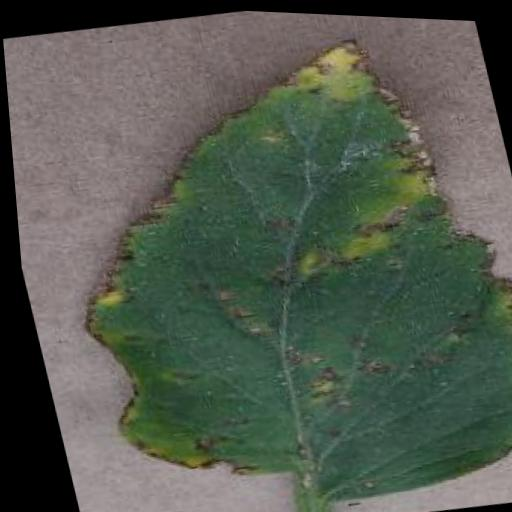Bacterial Spot: (9, 0, 512, 512)
